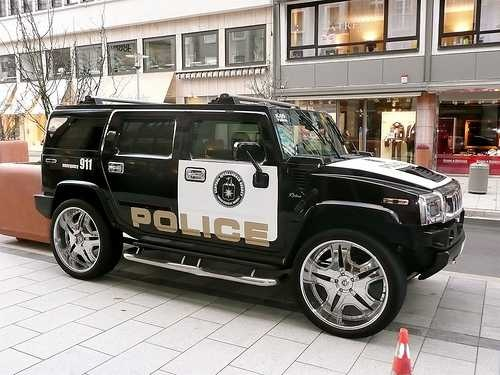Police Van: (24, 77, 490, 348)
